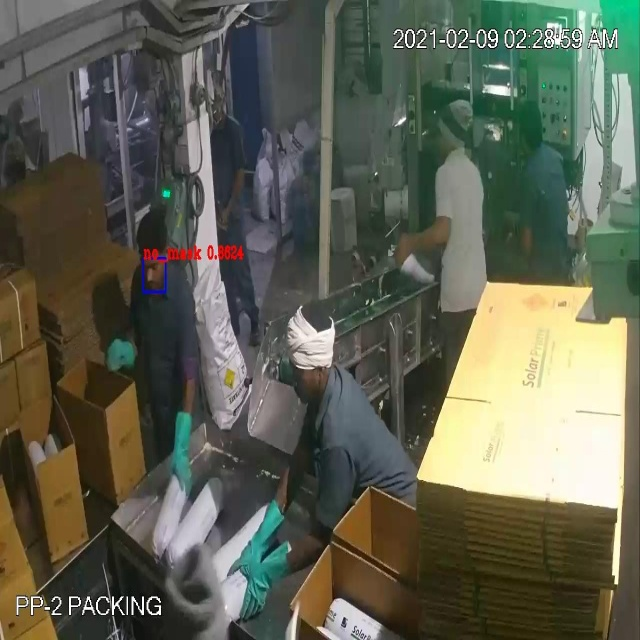Guantes: (230, 498, 284, 593), (240, 546, 289, 620), (167, 396, 199, 492), (99, 333, 139, 380)
Sin_guantes: (394, 216, 455, 269), (220, 164, 251, 232)
